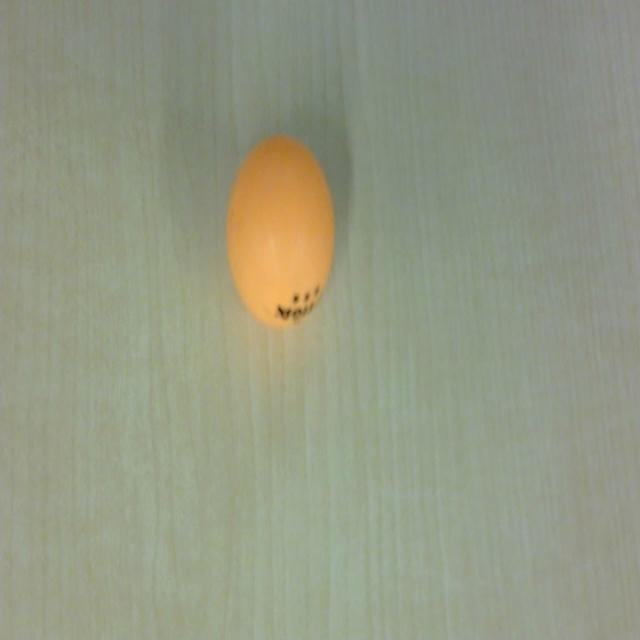ball: (224, 133, 336, 333)
